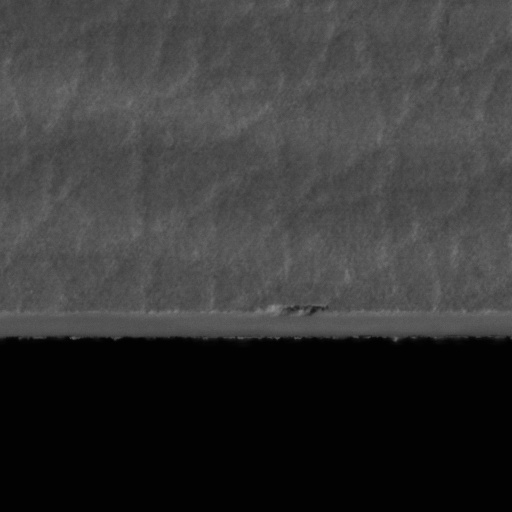bengque: (262, 302, 331, 319)
